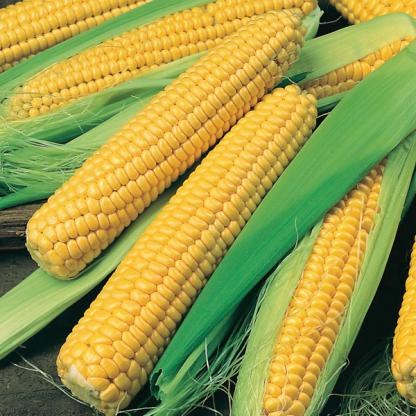---: (52, 85, 333, 412), (24, 12, 323, 280), (248, 140, 402, 416)
